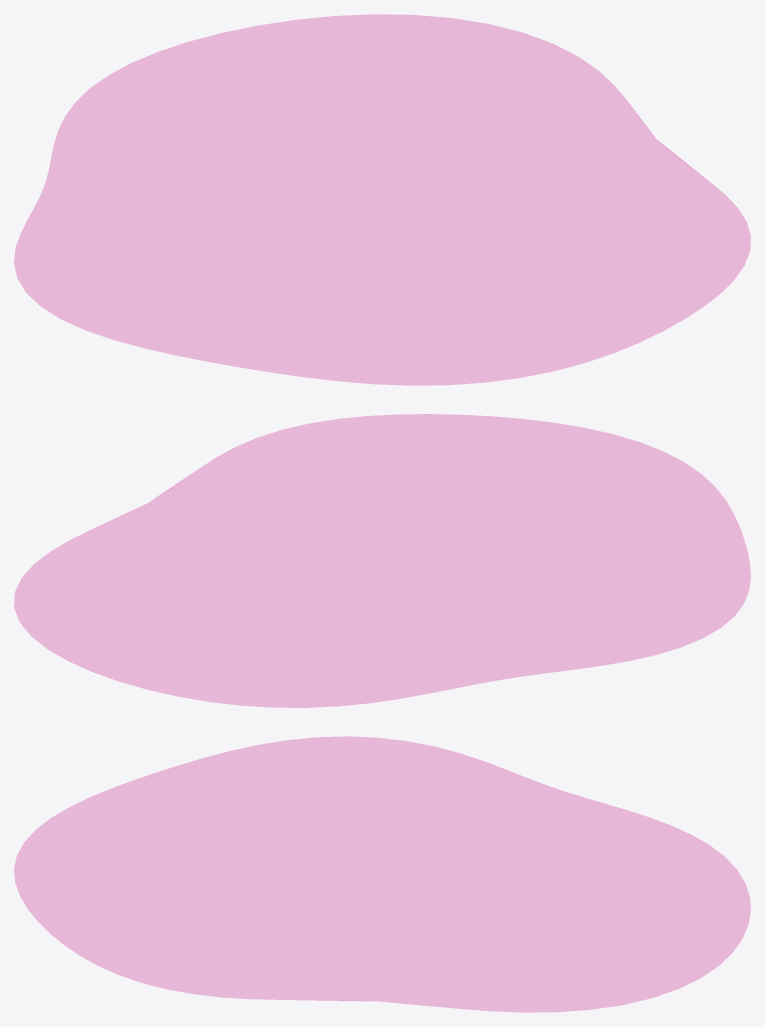
File: Lamina_6.fbx
The picture shows the model from 3 angles, top to bottom: view 1: azimuth 30°, elevation 25°; view 2: azimuth 150°, elevation 25°; view 3: azimuth 270°, elevation 25°; orthographic projection. The views are drawn at different scales.
Visible parts, largest first — view 1: Lamina_6; view 2: Lamina_6; view 3: Lamina_6.
Part boxes in pixels (x1,y1,x2,y2): Lamina_6: (14, 14, 750, 385); Lamina_6: (14, 414, 750, 707); Lamina_6: (14, 736, 750, 1012).
Bounding box in the file's own units: 28.96 × 0 × 32.65.
